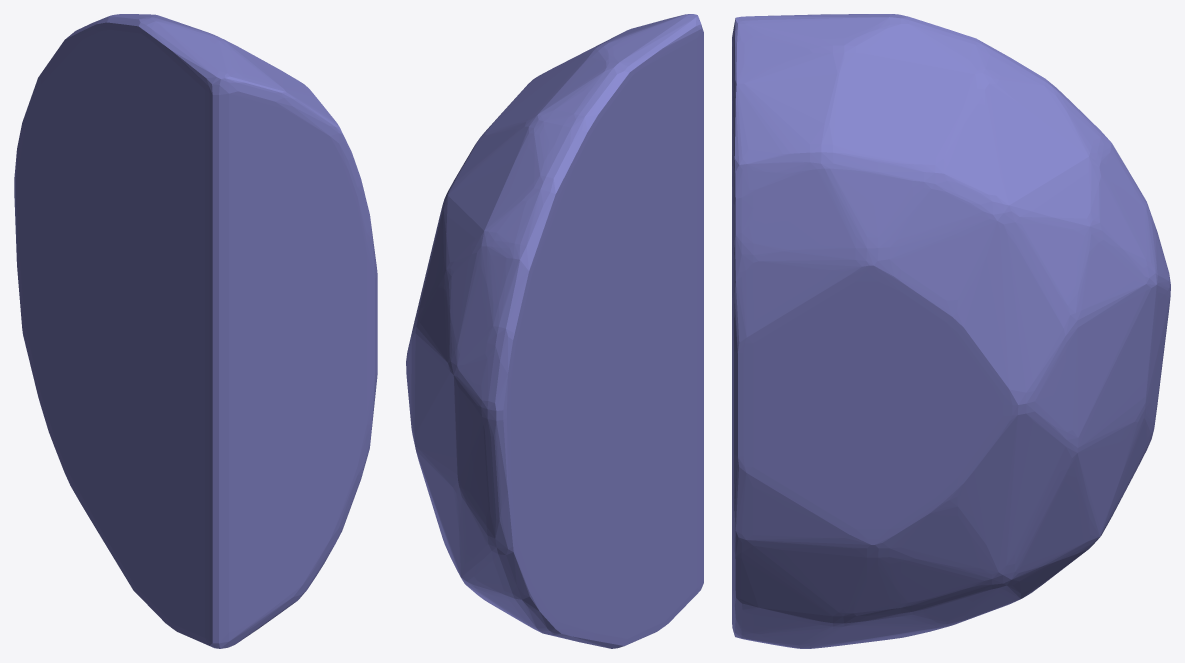
Rendered from left_f_middle_part_12.obj.
The picture shows the model from 3 angles, left to right: view 1: azimuth 30°, elevation 25°; view 2: azimuth 150°, elevation 25°; view 3: azimuth 270°, elevation 25°; orthographic projection. The views are drawn at different scales.
Bounding box in the file's own units: 4.79 × 16.15 × 10.24.
